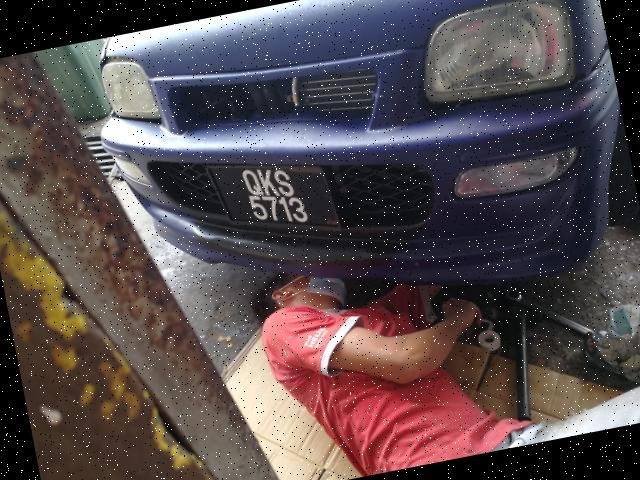License_Plate: (206, 144, 343, 256)
car: (87, 1, 640, 354)
